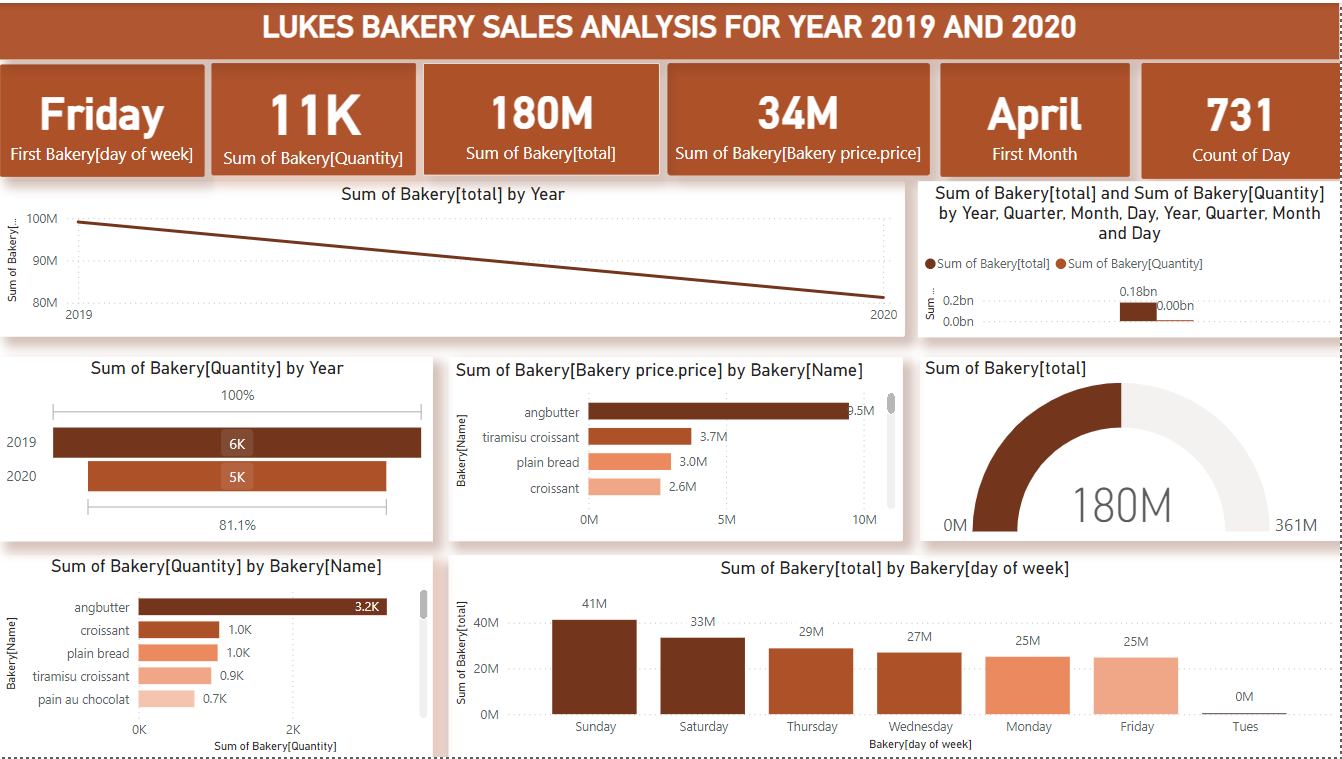

The page's visual inventory and layout, read from the dashboard file:
{"tool":"powerbi","page":{"name":"Page 1","canvas":[1280,720],"ordinal":0},"visuals":[{"type":"lineChart","fields":{"Category":["Sheet1.Bakery[Date].Variation.Date Hierarchy.Year","Sheet1.Bakery[Date].Variation.Date Hierarchy.Quarter","Sheet1.Bakery[Date].Variation.Date Hierarchy.Month","Sheet1.Bakery[Date].Variation.Date Hierarchy.Day"],"Y":["Sum(Sheet1.Bakery[total])"]},"box":[0,170.8,863.7,148],"z":0},{"type":"clusteredBarChart","fields":{"Category":["Sheet1.Bakery[Name]"],"Y":["Sum(Sheet1.Bakery[Bakery price.price])"]},"box":[428.4,337.4,434,176.3],"z":1000},{"type":"lineStackedColumnComboChart","fields":{"Y":["Sum(Sheet1.Bakery[total])"],"Category":["Sheet1.Bakery[day of week]"]},"box":[428.4,526.9,851,193.3],"z":2000},{"type":"clusteredBarChart","fields":{"Category":["Sheet1.Bakery[Name]"],"Y":["Sum(Sheet1.Bakery[Quantity])"]},"box":[0,526.9,413.2,193.3],"z":3000},{"type":"funnel","fields":{"Y":["Sum(Sheet1.Bakery[Quantity])"],"Category":["Sheet1.Bakery[Date].Variation.Date Hierarchy.Year","Sheet1.Bakery[Date].Variation.Date Hierarchy.Quarter","Sheet1.Bakery[Date].Variation.Date Hierarchy.Month","Sheet1.Bakery[Date].Variation.Date Hierarchy.Day"]},"box":[0,337.4,413.2,176.3],"z":4000},{"type":"card","fields":{"Values":["Min(Sheet1.Bakery[day of week])"]},"box":[0,58.6,195.2,107.4],"z":5000},{"type":"card","fields":{"Values":["Sum(Sheet1.Bakery[Quantity])"]},"box":[201.7,56.9,195.2,107.4],"z":6000},{"type":"gauge","fields":{"Y":["Sum(Sheet1.Bakery[total])"]},"box":[877.6,337.4,401.8,176.3],"z":7000},{"type":"card","fields":{"Values":["Sum(Sheet1.Bakery[Bakery price.price])"]},"box":[637.6,56.9,250.5,107.4],"z":8000},{"type":"card","fields":{"Values":["Min(Sheet1.Bakery[Date].Variation.Date Hierarchy.Month)"]},"box":[897.9,56.9,180.5,109],"z":9000},{"type":"textbox","box":[0,0,1278.5,53.7],"z":10000},{"type":"card","fields":{"Values":["CountNonNull(Sheet1.Bakery[Date].Variation.Date Hierarchy.Day)"]},"box":[1089.8,56.9,190.3,110.6],"z":11000},{"type":"card","fields":{"Values":["Sum(Sheet1.Bakery[total])"]},"box":[403.4,56.9,226.1,107.4],"z":12000},{"type":"clusteredColumnChart","fields":{"Y":["Sum(Sheet1.Bakery[total])","Sum(Sheet1.Bakery[Quantity])"],"Category":["Sheet1.Bakery[NewTime].Variation.Date Hierarchy.Year","Sheet1.Bakery[NewTime].Variation.Date Hierarchy.Quarter","Sheet1.Bakery[NewTime].Variation.Date Hierarchy.Month","Sheet1.Bakery[NewTime].Variation.Date Hierarchy.Day","Sheet1.Bakery[NewTime].Variation.Date Hierarchy.Year","Sheet1.Bakery[NewTime].Variation.Date Hierarchy.Quarter","Sheet1.Bakery[NewTime].Variation.Date Hierarchy.Month","Sheet1.Bakery[NewTime].Variation.Date Hierarchy.Day"]},"box":[876.7,171.1,402.8,148.4],"z":13000}]}

Visuals, with their boxes in screenshot pixels (x1, y1, x2, y2), scaled from the page's 1280x720 canvas onto the 1342x759 screenshot:
lineChart - Sheet1.Bakery[Date].Variation.Date Hierarchy.Year x Sheet1.Bakery[Date].Variation.Date Hierarchy.Quarter: 0, 180, 906, 336
clusteredBarChart - Sheet1.Bakery[Name] x Sum(Sheet1.Bakery[Bakery price.price]): 449, 356, 904, 542
lineStackedColumnComboChart - Sum(Sheet1.Bakery[total]) x Sheet1.Bakery[day of week]: 449, 555, 1341, 758
clusteredBarChart - Sheet1.Bakery[Name] x Sum(Sheet1.Bakery[Quantity]): 0, 555, 433, 758
funnel - Sum(Sheet1.Bakery[Quantity]) x Sheet1.Bakery[Date].Variation.Date Hierarchy.Year: 0, 356, 433, 542
card - Min(Sheet1.Bakery[day of week]): 0, 62, 205, 175
card - Sum(Sheet1.Bakery[Quantity]): 211, 60, 416, 173
gauge - Sum(Sheet1.Bakery[total]): 920, 356, 1341, 542
card - Sum(Sheet1.Bakery[Bakery price.price]): 668, 60, 931, 173
card - Min(Sheet1.Bakery[Date].Variation.Date Hierarchy.Month): 941, 60, 1131, 175
textbox: 0, 0, 1340, 57
card - CountNonNull(Sheet1.Bakery[Date].Variation.Date Hierarchy.Day): 1143, 60, 1341, 177
card - Sum(Sheet1.Bakery[total]): 423, 60, 660, 173
clusteredColumnChart - Sum(Sheet1.Bakery[total]) x Sum(Sheet1.Bakery[Quantity]): 919, 180, 1341, 337
